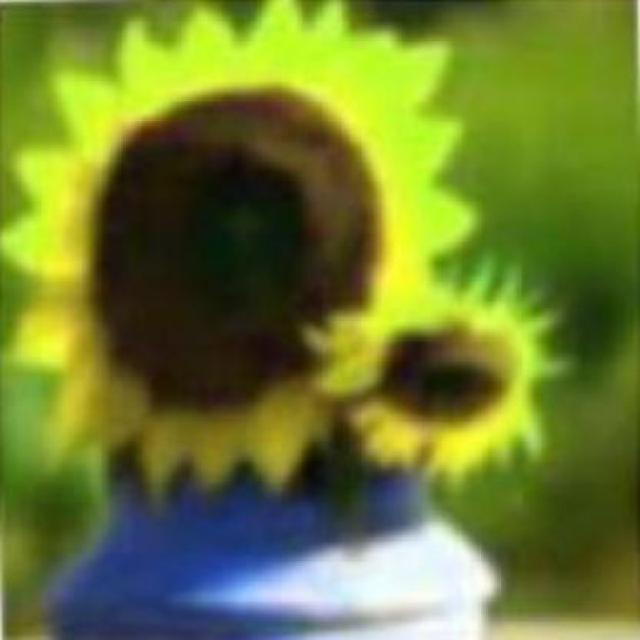sunflower: (25, 25, 479, 482), (318, 267, 572, 482)
